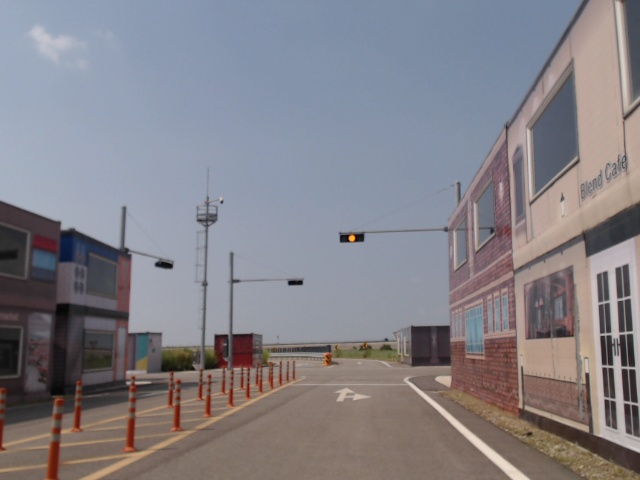orange_3: (340, 231, 366, 244)
